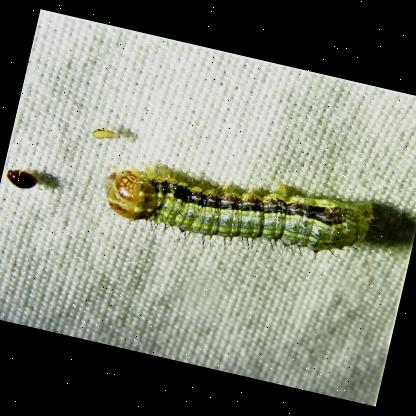Fall Armyworm Larvae: (88, 137, 392, 294)
